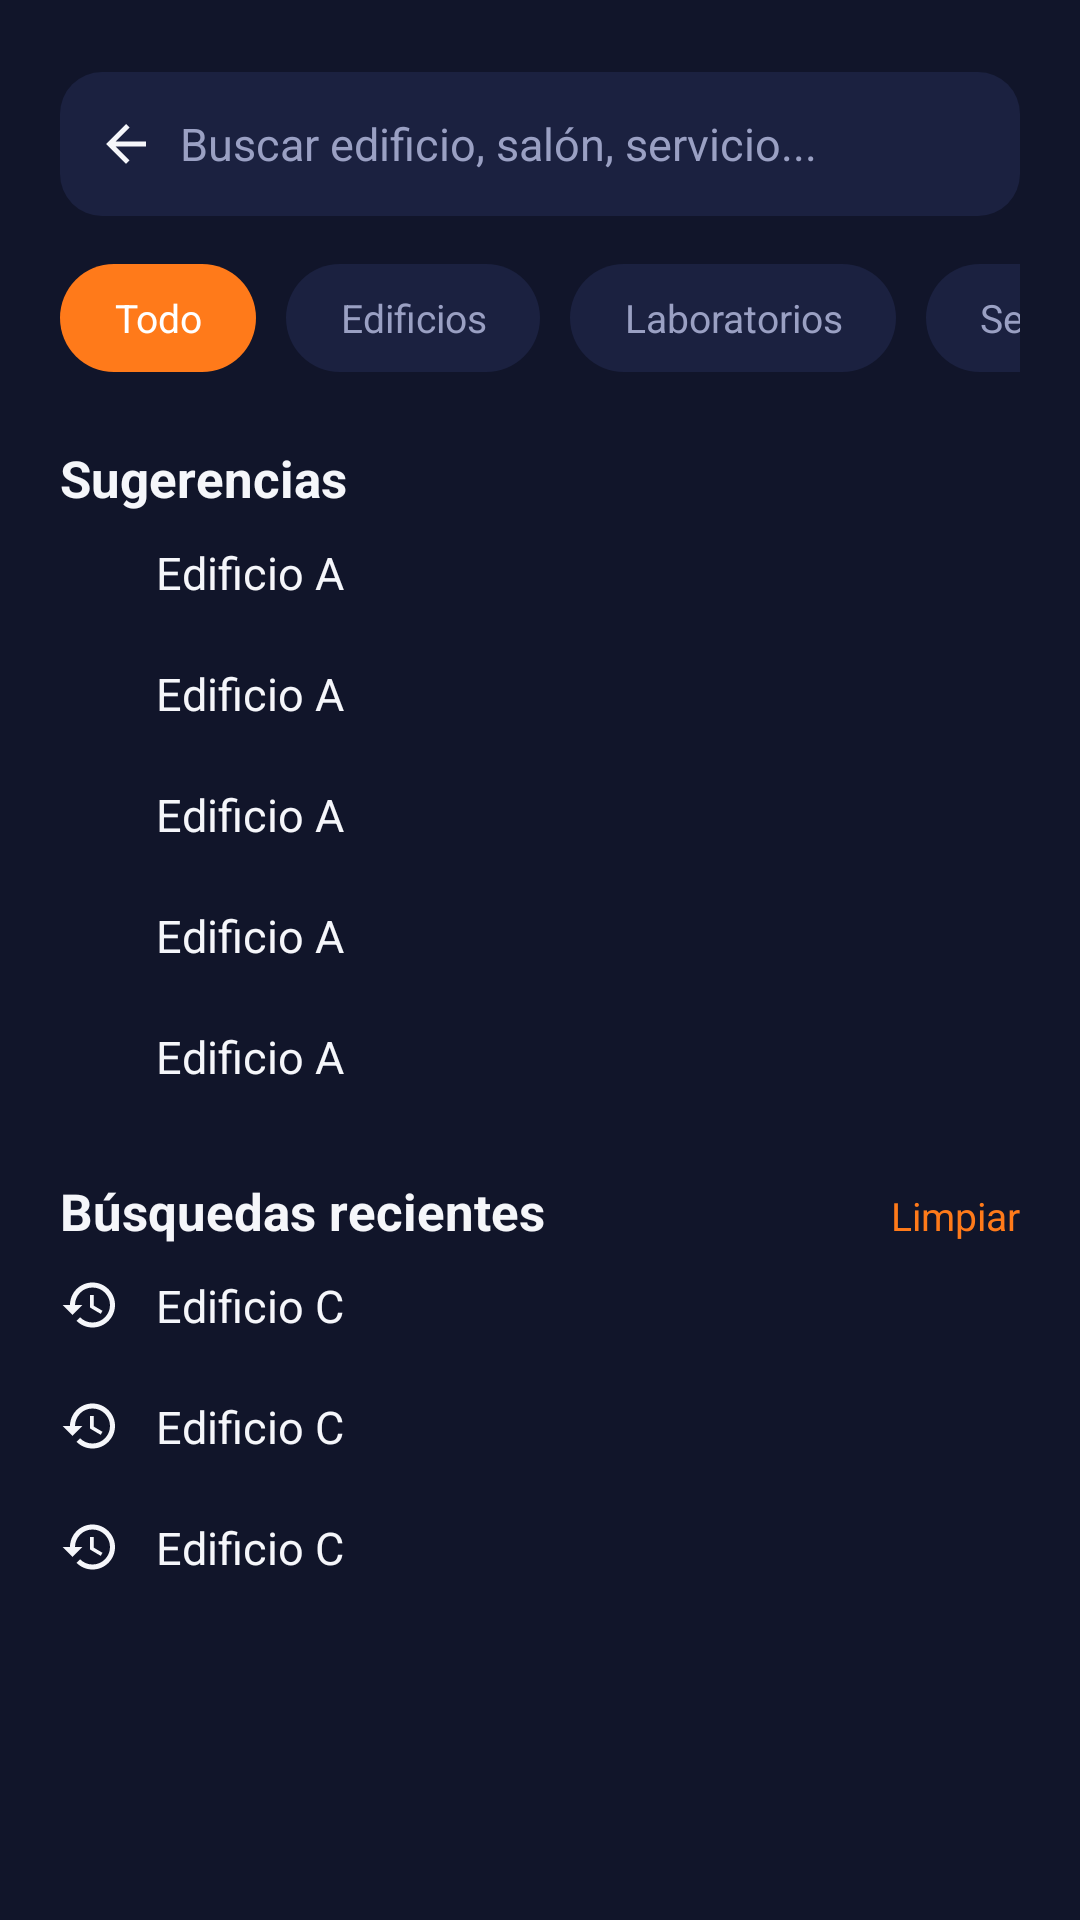

Icons on this 1080 x 1920 Android screen, each with the point to tap as point (x, y):
Atrás: point (126, 144)
history: point (89, 1305), point (89, 1426), point (89, 1547)
